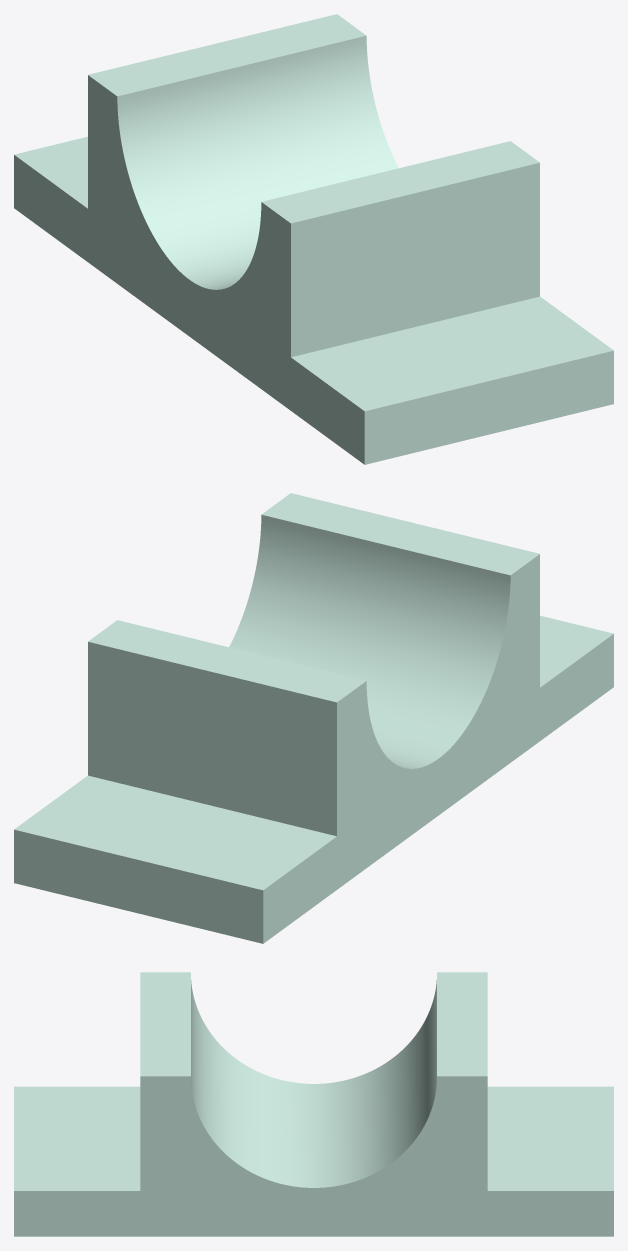
3 renders of one model, top to bottom at view 1: azimuth 30°, elevation 25°; view 2: azimuth 150°, elevation 25°; view 3: azimuth 270°, elevation 25°, orthographic. The views are drawn at different scales.
Parts seen in each view (by area): view 1: Renderer Node; view 2: Renderer Node; view 3: Renderer Node.
Boxes of the visible parts, <box> form: Renderer Node: <box>14,14,613,464</box>; Renderer Node: <box>14,493,613,943</box>; Renderer Node: <box>14,972,613,1236</box>.
Bounding box in the file's own units: 0.5 × 0.3592 × 1.22.
